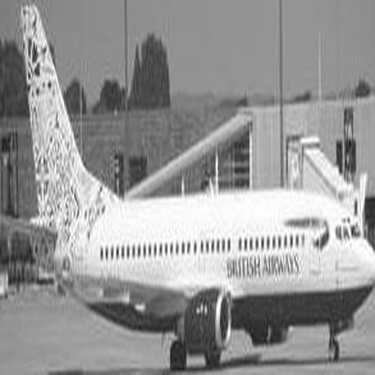airplane: (6, 5, 368, 372)
